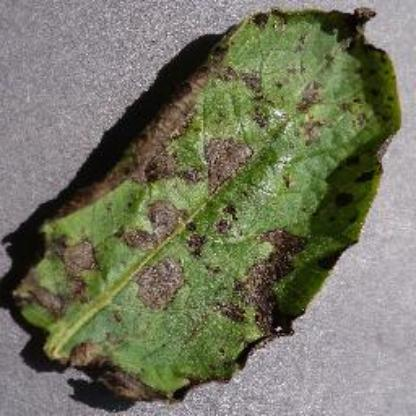Early-Blight: (12, 6, 402, 406)
